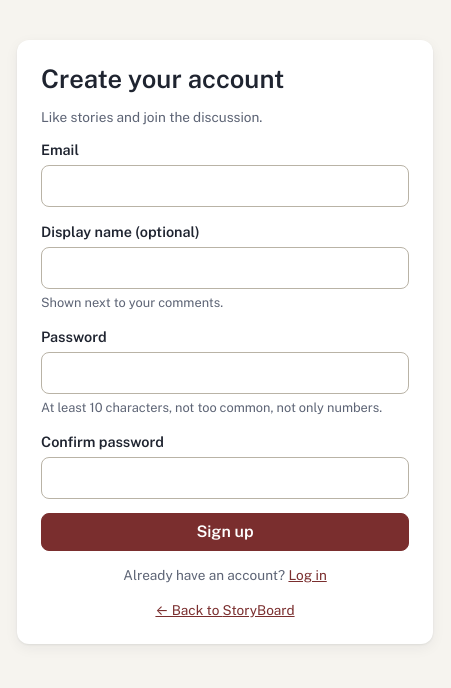
Test: RegisterPage › catches mismatched passwords and a bad email
This screenshot has width=451, height=688.
Type "nope" into the field labelled "Email" at (225, 186), box [41,165,409,207]
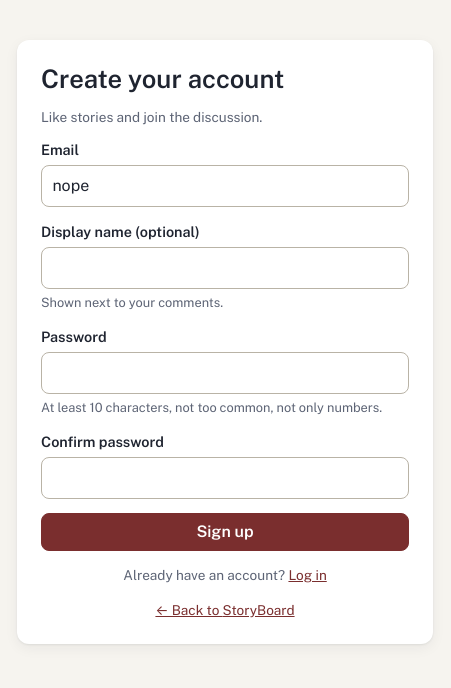
Type "Correct-horse-battery-9" into the password field labelled "Password" at (225, 373), box [41,352,409,394]
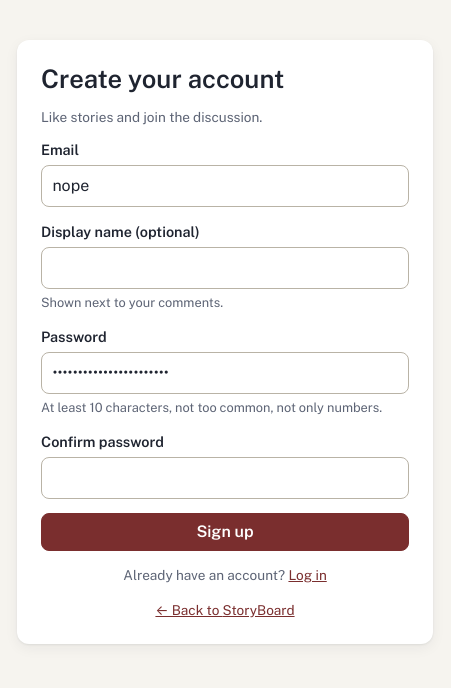
Type "different-password-1" into the password field labelled "Confirm password" at (225, 478), box [41,457,409,499]
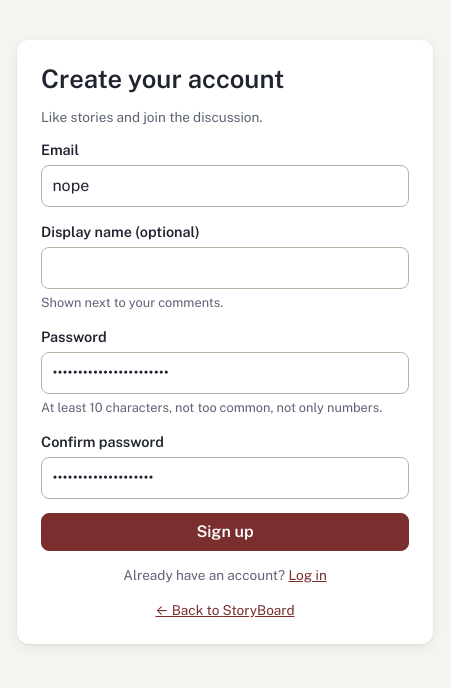
Click the button "Sign up" at (225, 532), box [41,513,409,551]
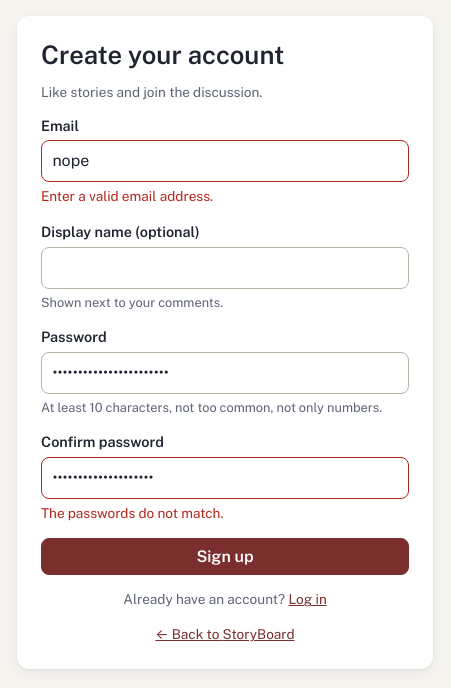
Expected: the text "Enter a valid email address." is shown, [41,188,213,204]
Expected: the text "The passwords do not match." is shown, [41,505,224,521]
